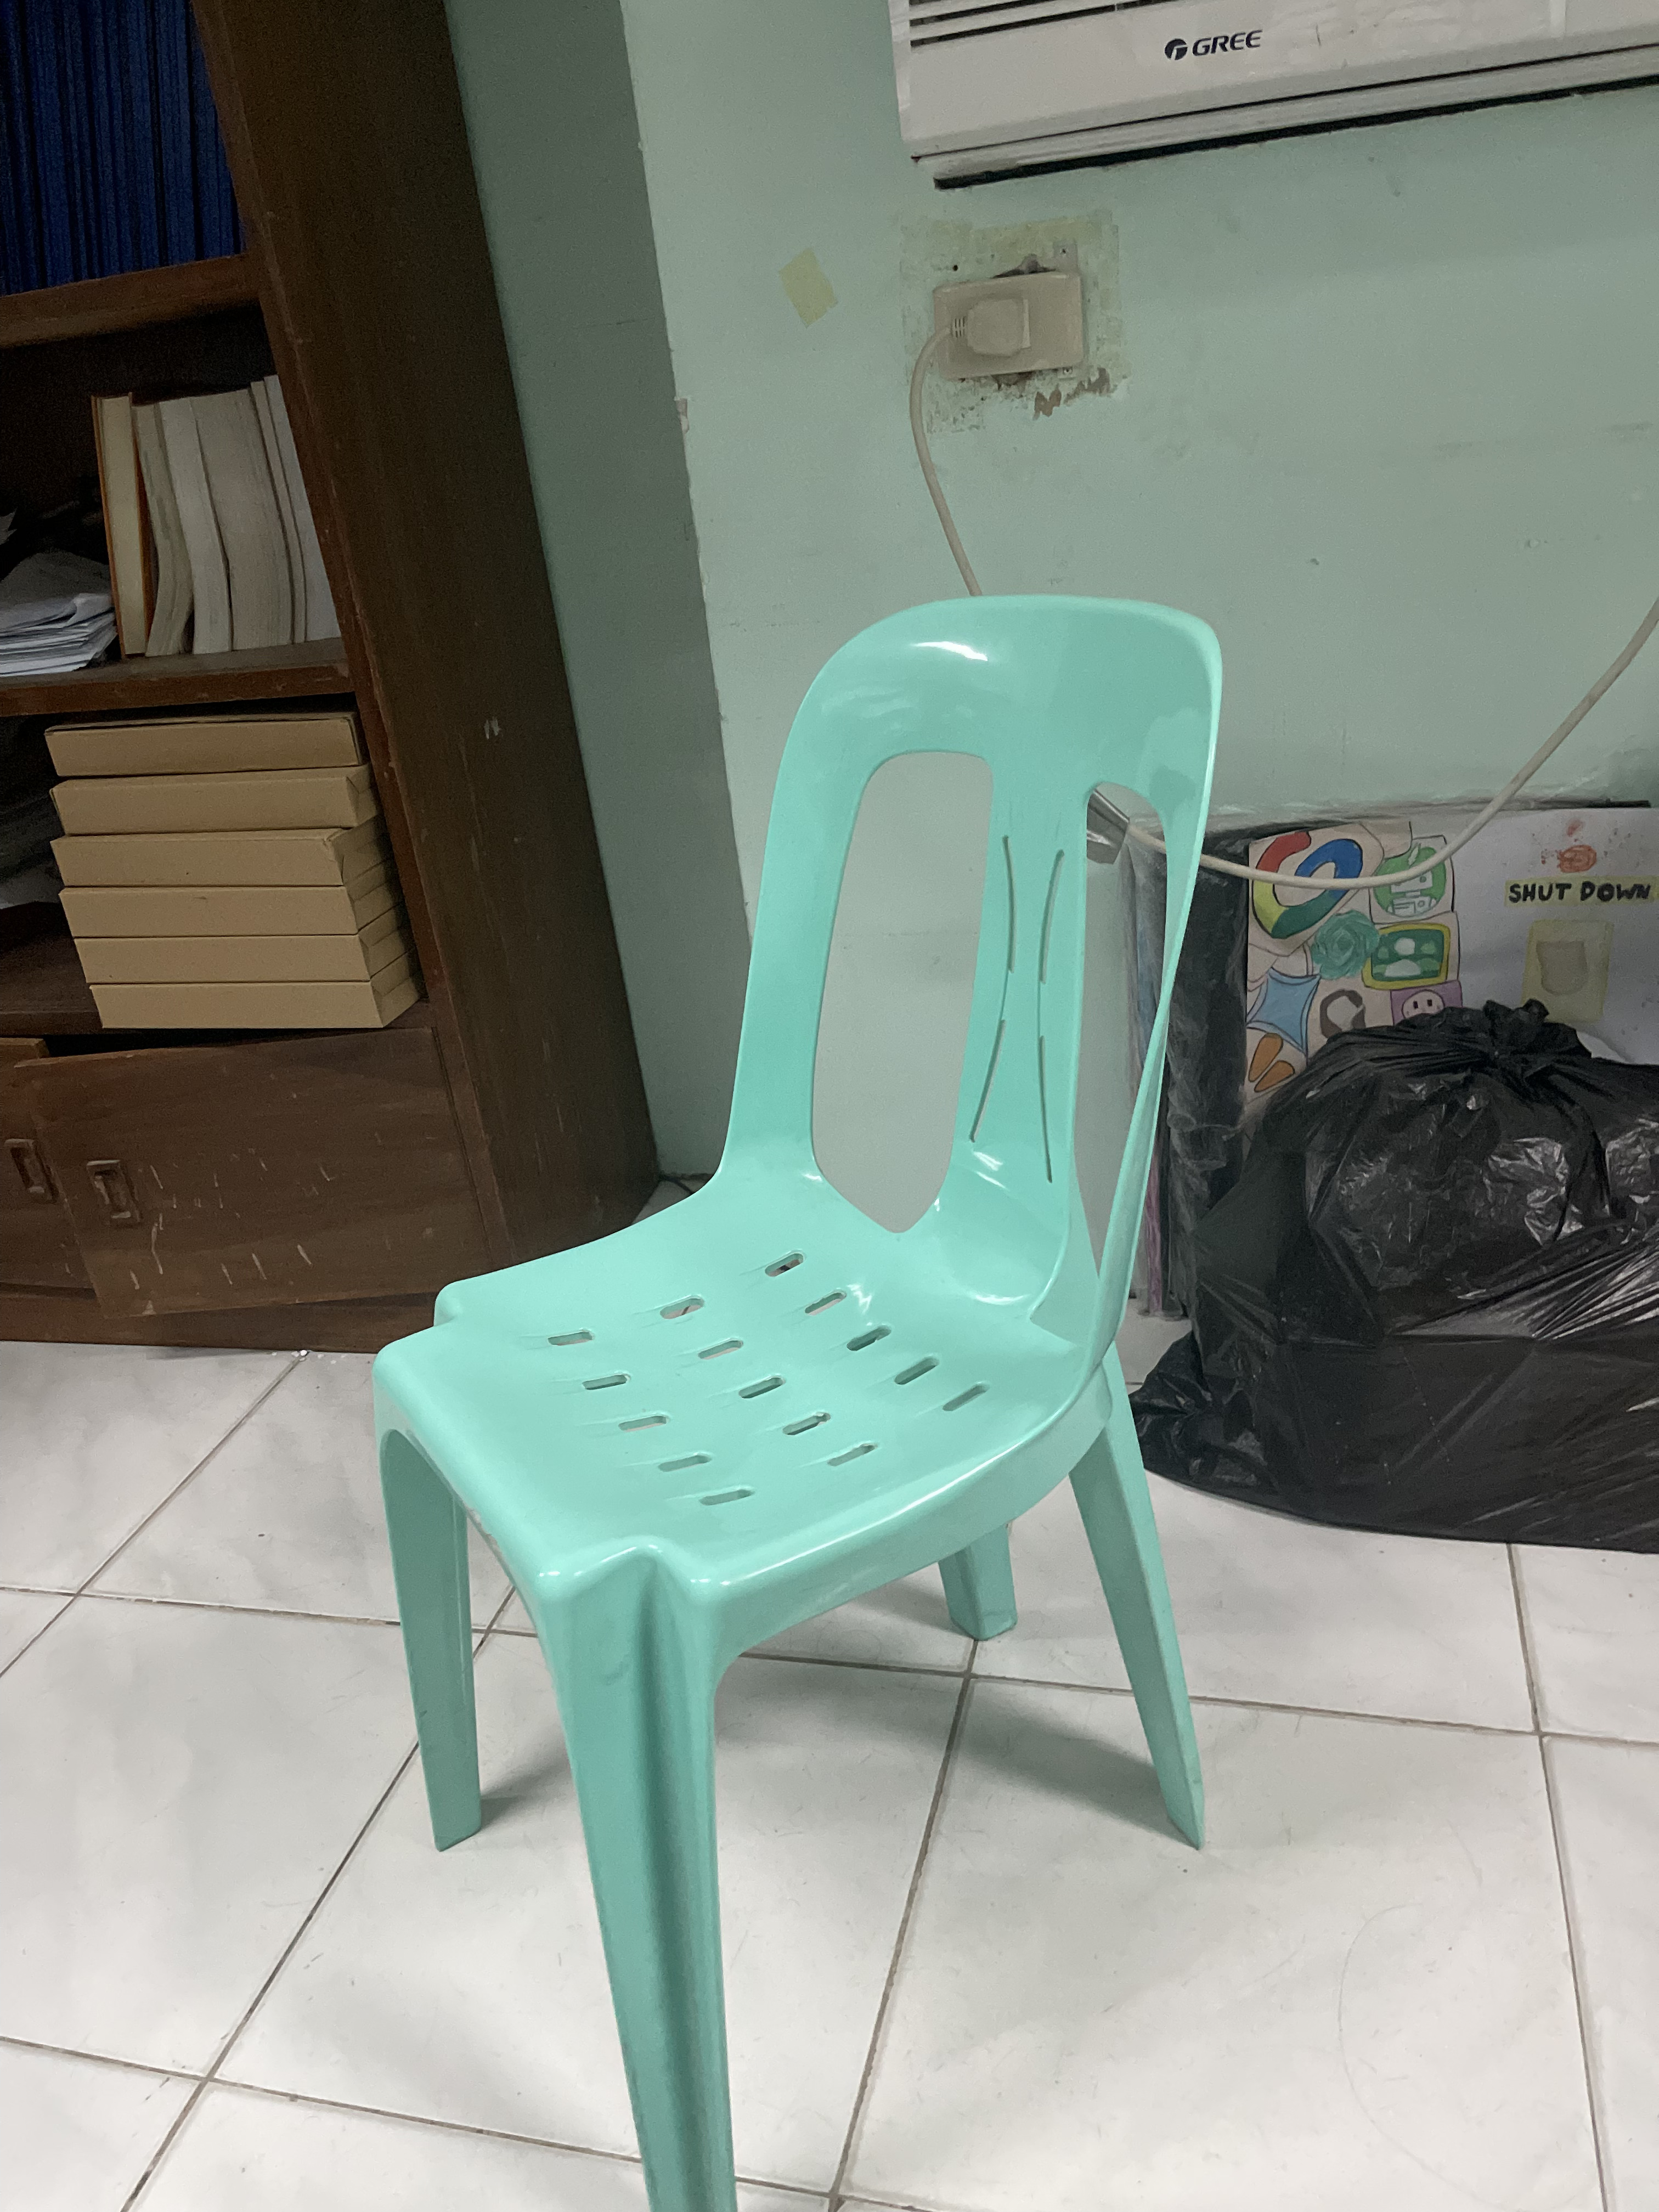chair2: (359, 583, 1244, 2212)
